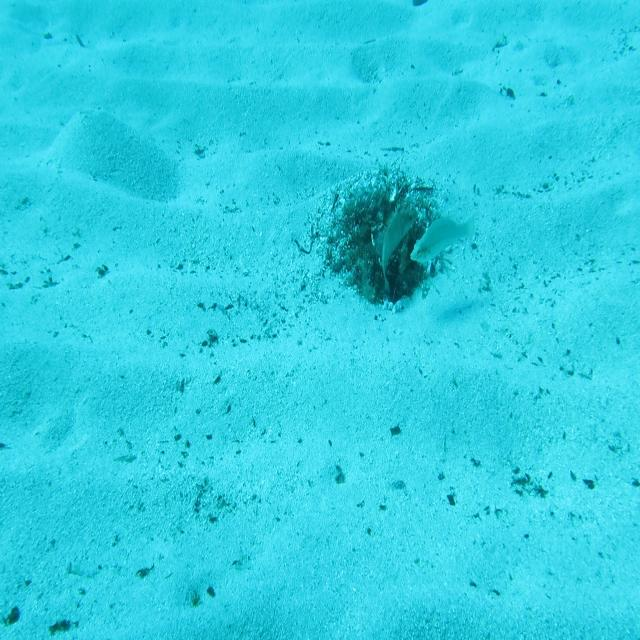BEND: (376, 190, 418, 304)
female: (407, 208, 477, 274)
nest: (323, 163, 454, 319)
